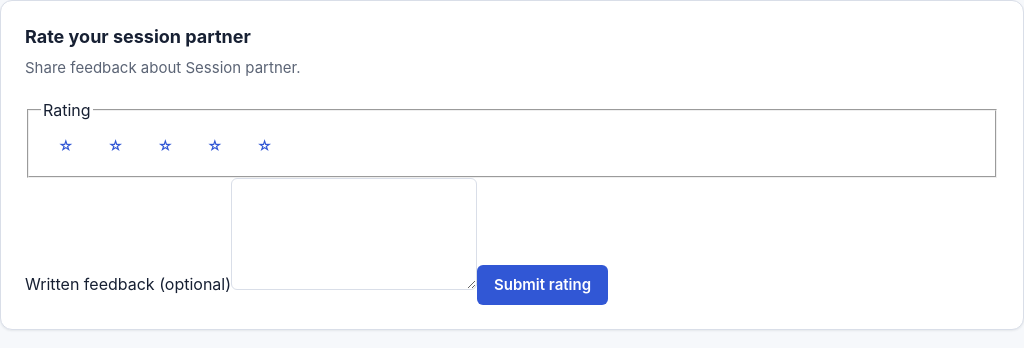
it: RatingPanel › selects a rating and submits the typed feedback
Step 1. Click the button named "Rate 4 out of 5" → coordinates (215, 146), box [190, 126, 240, 166]
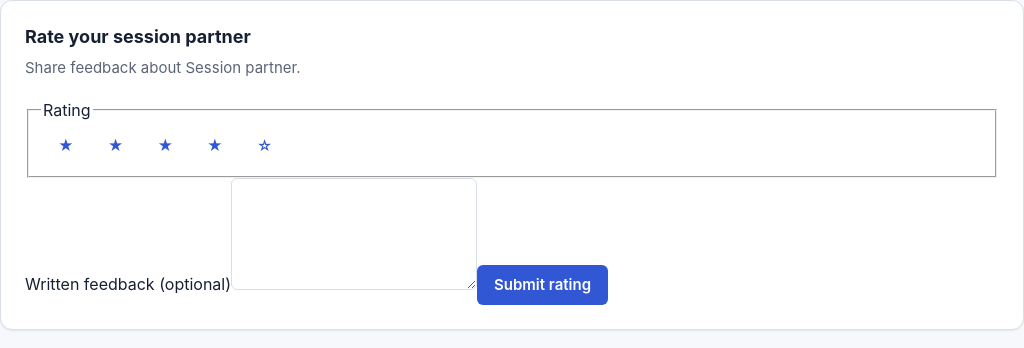
Step 2. Type "  Clear and helpful.  " into the text box labelled "Written feedback (optional)" → coordinates (354, 234), box [231, 178, 477, 290]
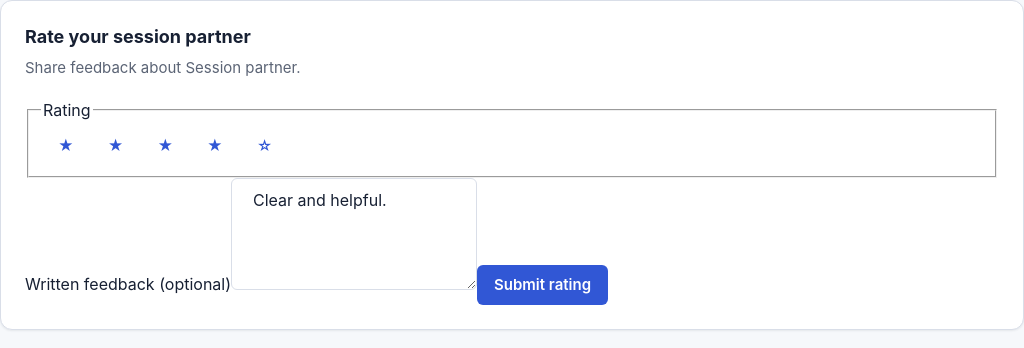
Step 3. Click the button "Submit rating" → coordinates (542, 284), box [477, 264, 608, 304]
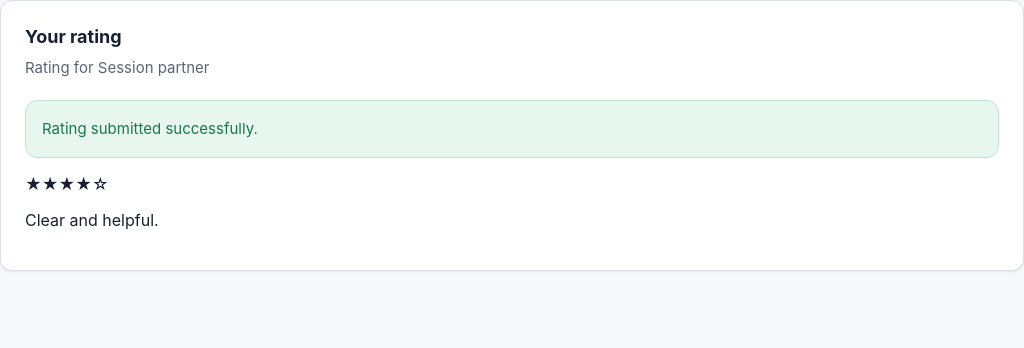
expect the heading "Your rating" is shown: met, box [25, 26, 122, 47]
expect the text "Rating submitted successfully." is shown: met, box [42, 119, 258, 138]
